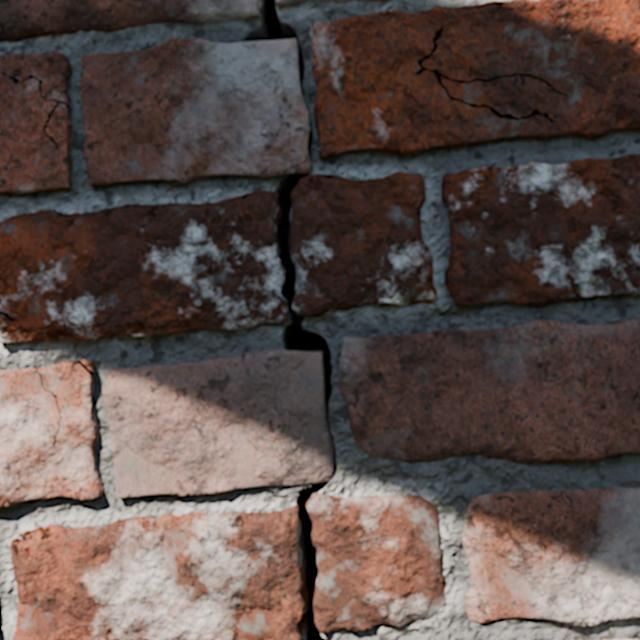broken_brick: (0, 190, 286, 343), (10, 505, 304, 639), (291, 172, 436, 316), (306, 494, 445, 633), (0, 0, 257, 42), (313, 0, 386, 3), (277, 0, 307, 6)
crack: (80, 0, 337, 639), (310, 0, 639, 159), (338, 318, 639, 462), (441, 154, 639, 308), (462, 487, 639, 625), (0, 359, 103, 507), (0, 51, 72, 194), (0, 311, 15, 322), (15, 331, 18, 341), (178, 516, 191, 517)
